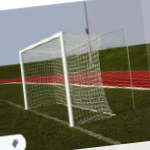goals: (16, 29, 114, 129)
